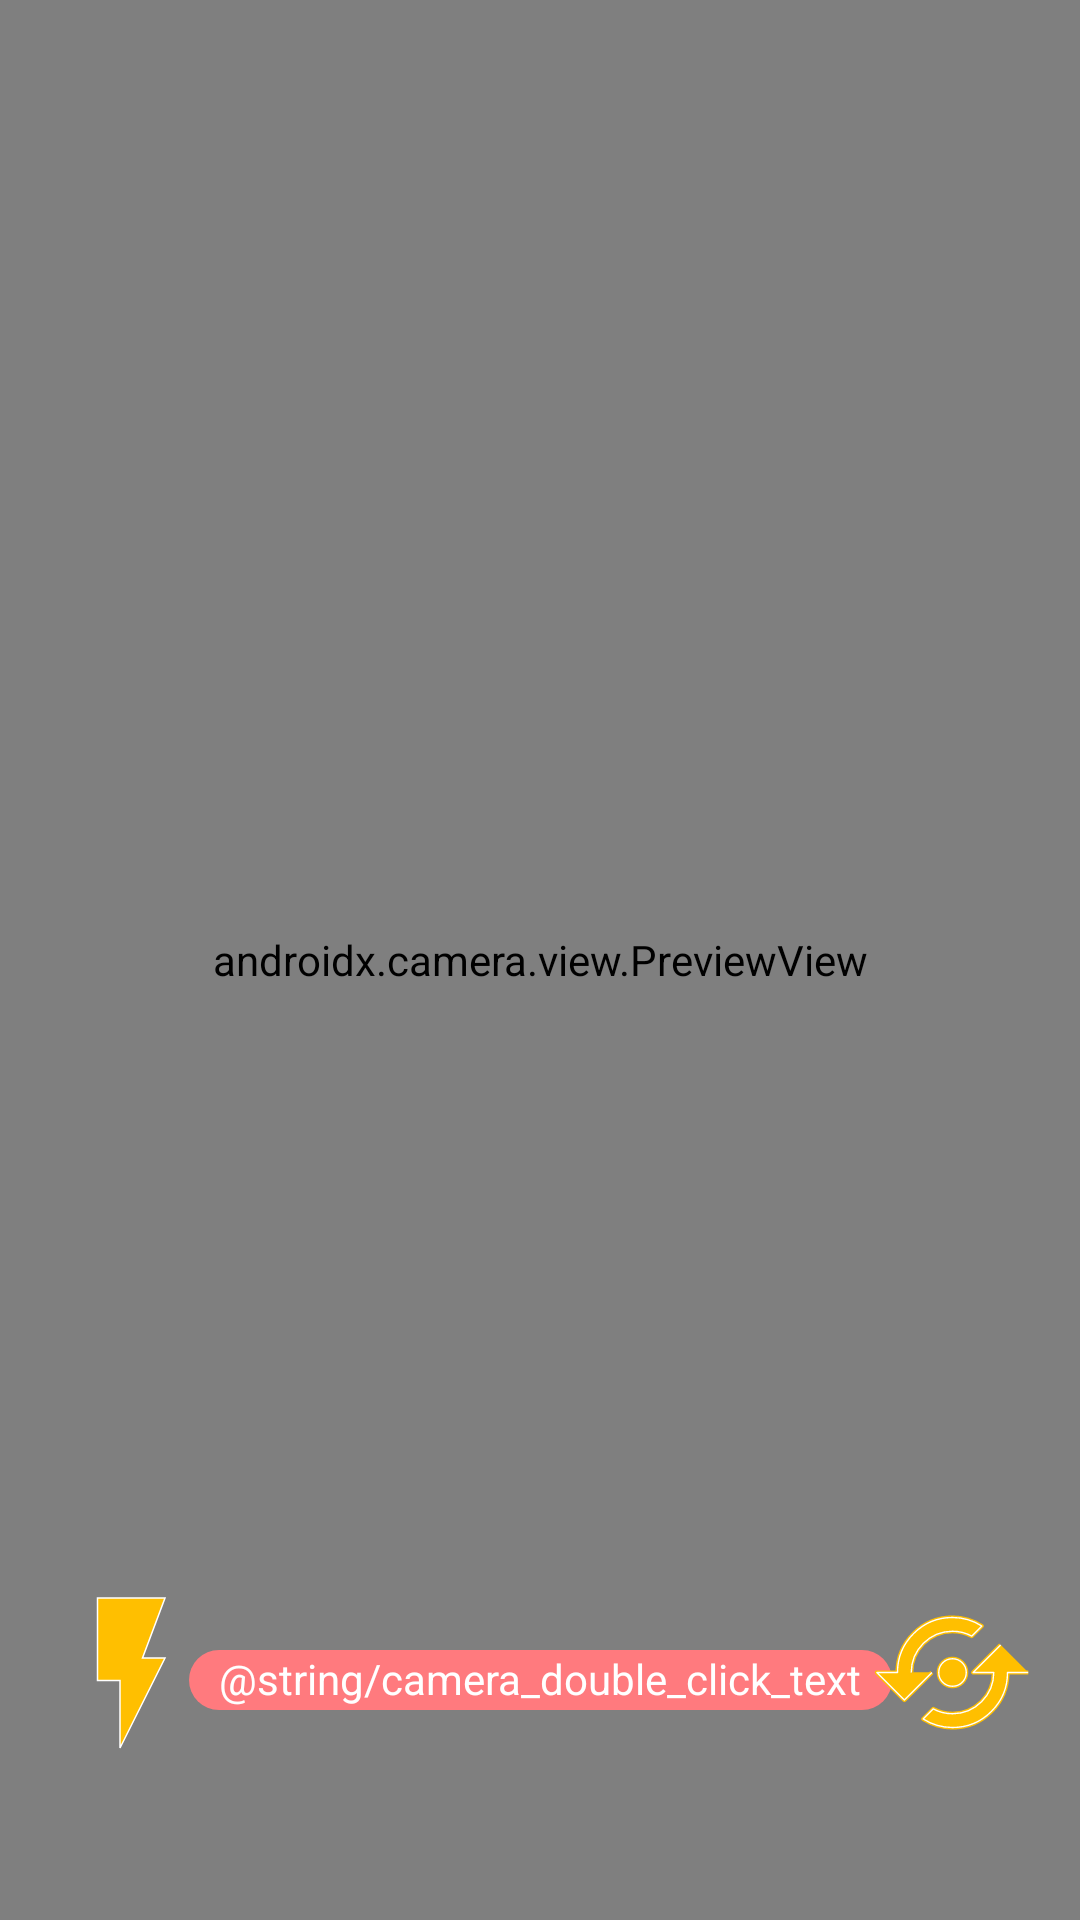

Where icons sit on this 1080x1920 app screen, as (x1, y1, x2, y2):
Flash Button: (96, 1597, 166, 1748)
